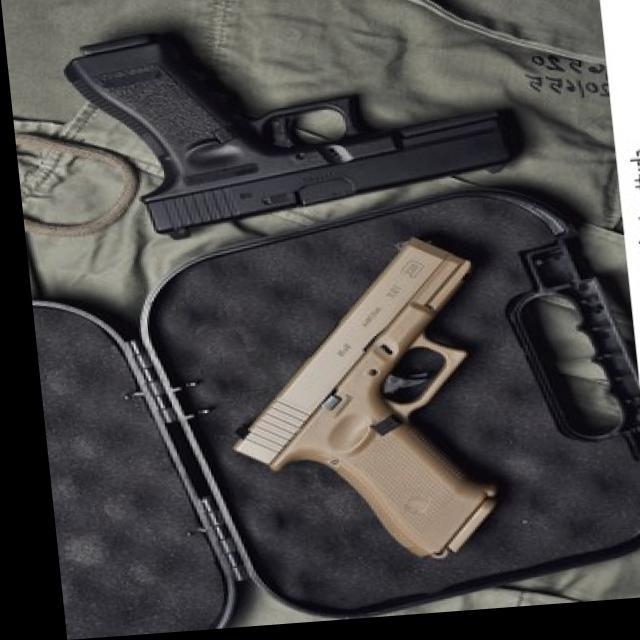handgun: (45, 16, 594, 593)
